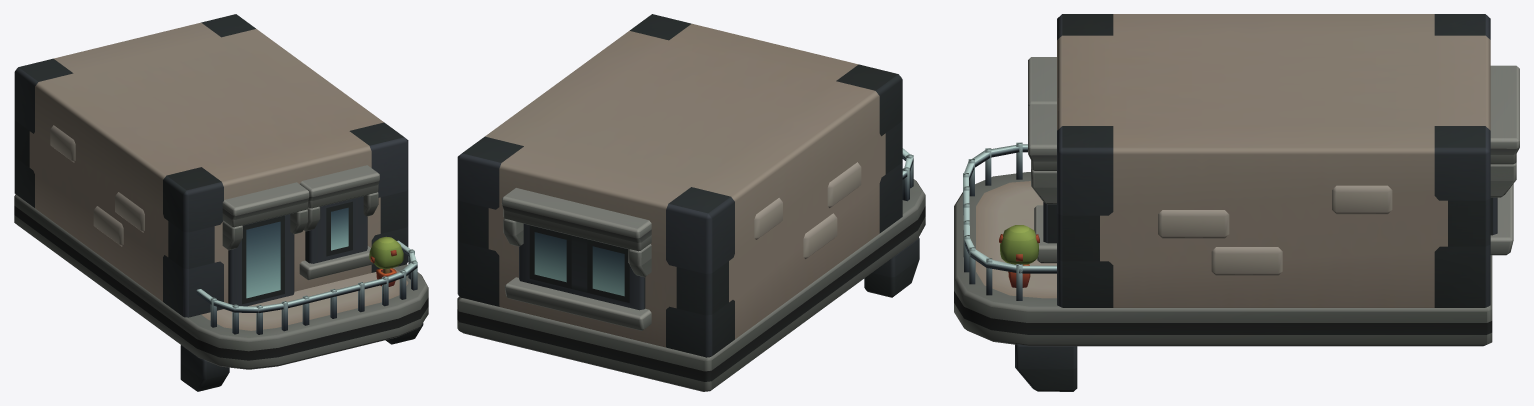
The model's file is appartment_type3_balcony_cream.fbx.
3 views of the same model, side by side, from view 1: azimuth 30°, elevation 25°; view 2: azimuth 150°, elevation 25°; view 3: azimuth 270°, elevation 25° (orthographic). The views are drawn at different scales.
Visible parts, largest first — view 1: appartment_type3_balcony_cream; view 2: appartment_type3_balcony_cream; view 3: appartment_type3_balcony_cream.
Part boxes in pixels (x1=…): appartment_type3_balcony_cream: x1=14, y1=14, x2=428, y2=391; appartment_type3_balcony_cream: x1=457, y1=14, x2=925, y2=391; appartment_type3_balcony_cream: x1=954, y1=14, x2=1519, y2=391.
Size of the model in its own units: 628 by 505 by 1056.
